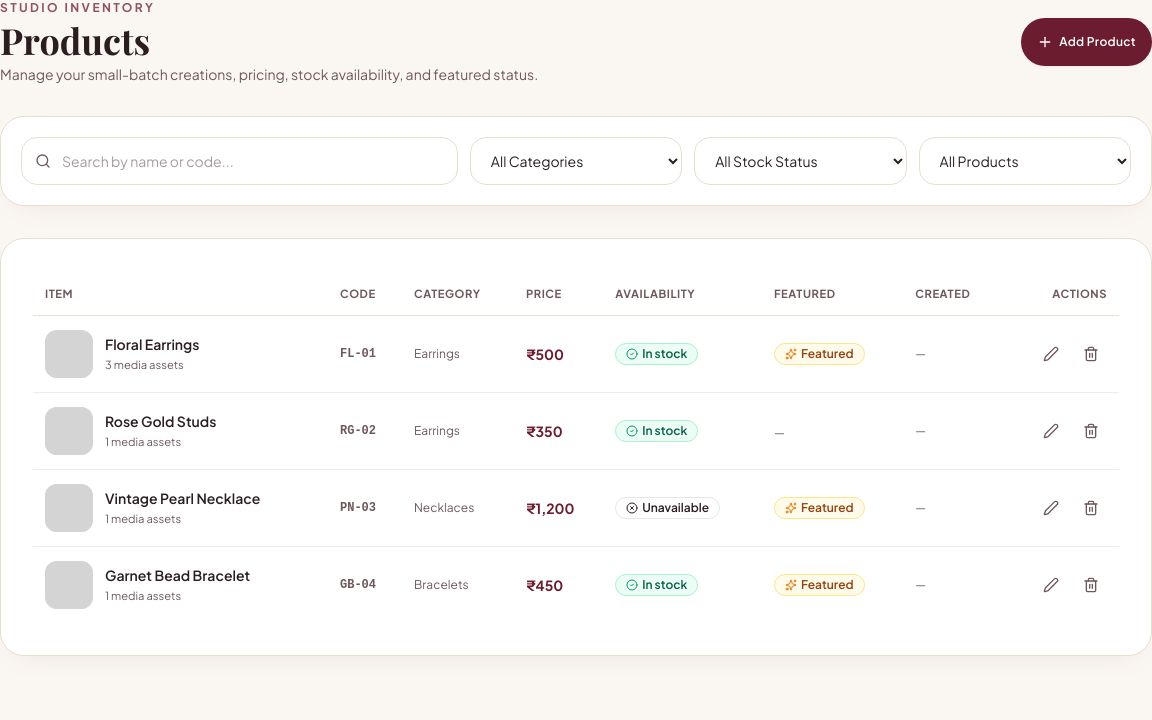
Test: AdminProductsPage › confirms and soft-deletes a product from the public catalog
Check: the link "Floral Earrings" is shown, box [105, 334, 199, 354]
What coordinates should you click on to do the following:
click the button named "Delete Floral Earrings"
I would click on:
 (1091, 354)
Its box is [1075, 338, 1107, 370].
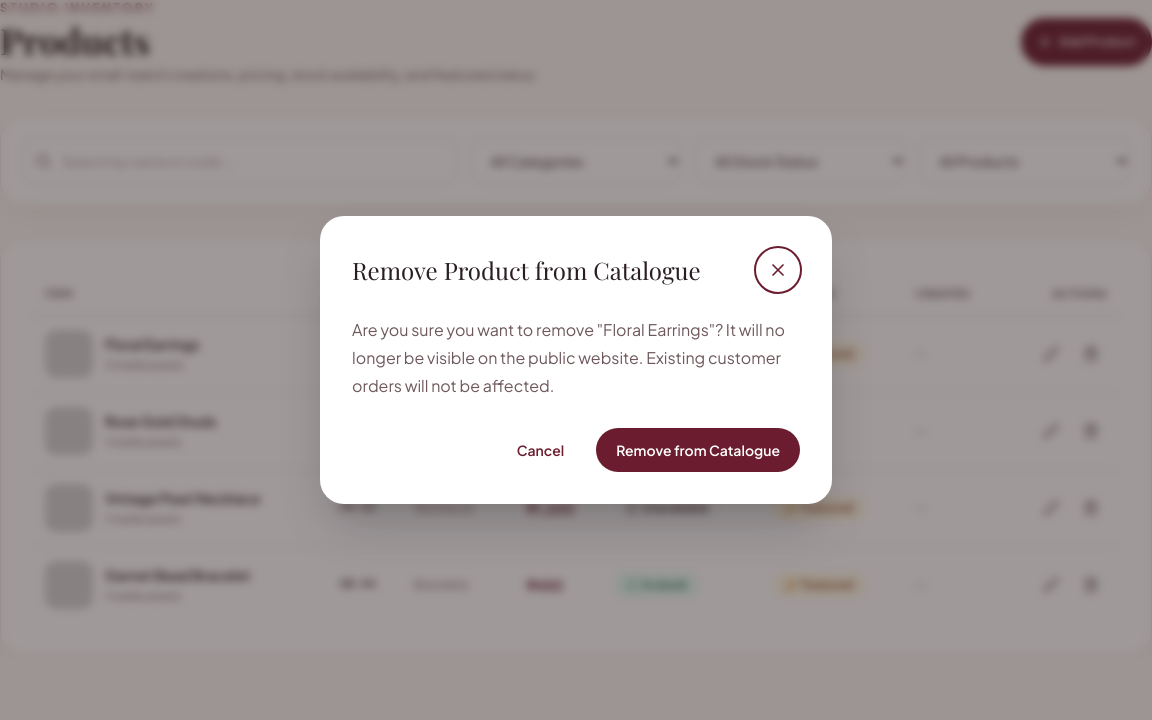
Check: the heading "Remove Product from Catalogue" is shown, box [352, 254, 701, 286]
Check: the text "It will no longer be visible on the public website" is shown, box [352, 319, 785, 396]
What coordinates should you click on to do the following:
click the button "Remove from Catalogue"
I would click on:
 (698, 450)
Its box is [596, 428, 800, 472].
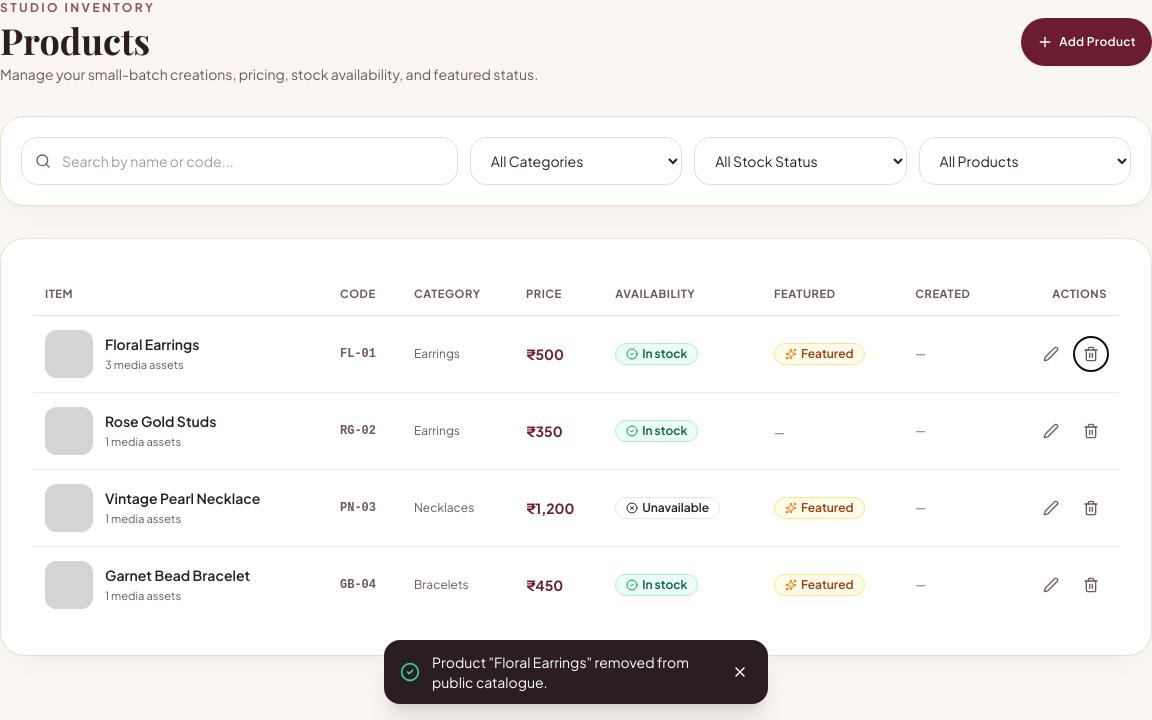
Check: the text "Product \"Floral Earrings\" removed from public catalogue." is shown, box [432, 652, 716, 692]
